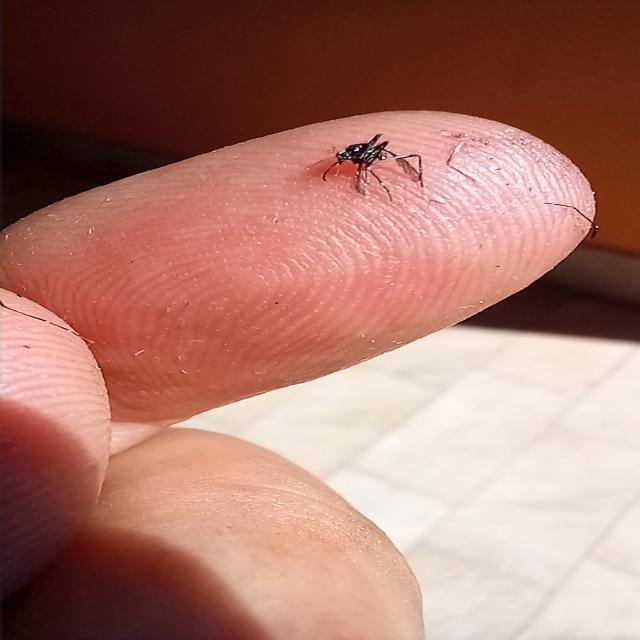albopictus: (302, 128, 435, 201)
